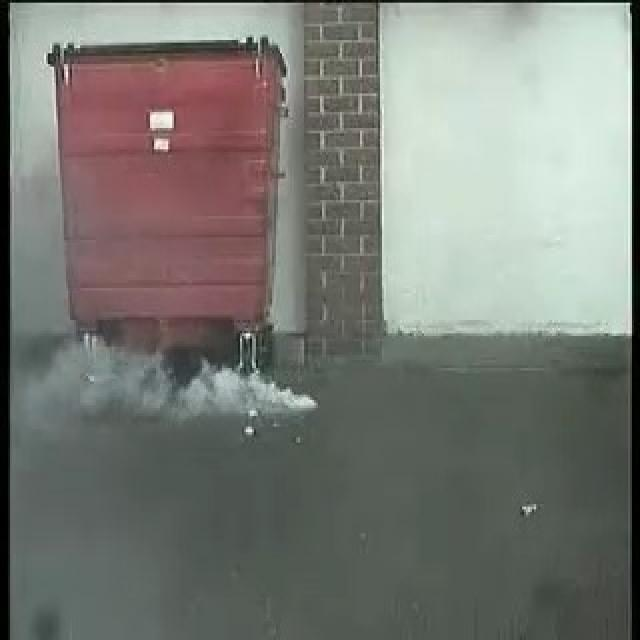smoke: (52, 354, 320, 423)
